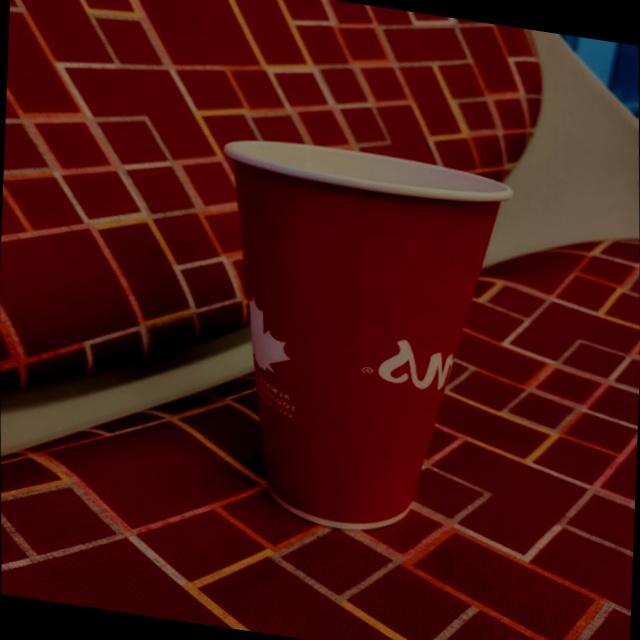Timmies: (202, 114, 536, 567)
